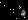person: (13, 6, 21, 19), (22, 7, 27, 19)
